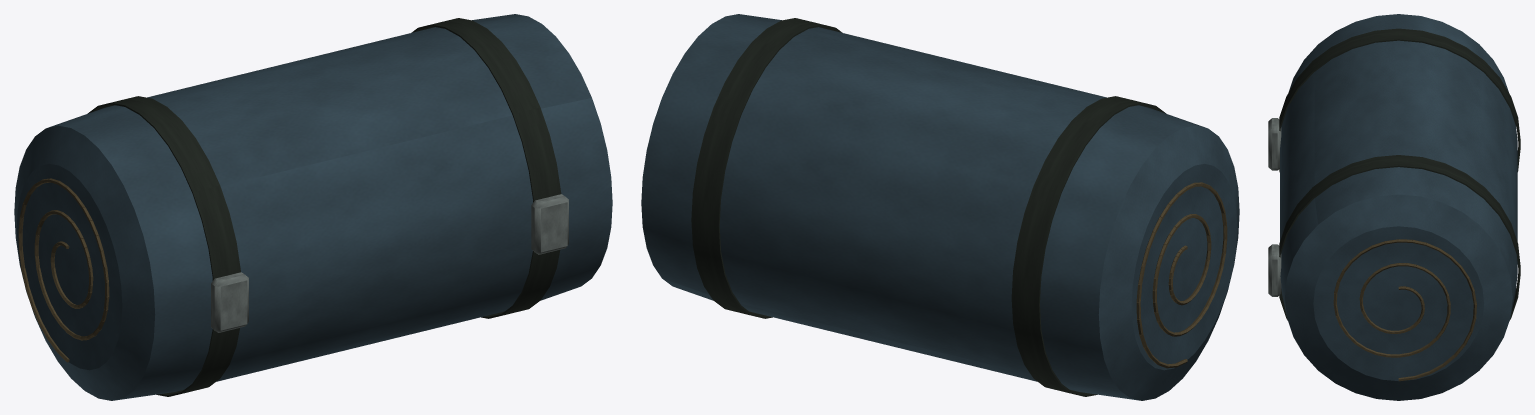
The model's file is level_camp_bedroll_rolled_refined.glb.
The picture shows the model from 3 angles, left to right: view 1: azimuth 30°, elevation 25°; view 2: azimuth 150°, elevation 25°; view 3: azimuth 270°, elevation 25°; orthographic projection. The views are drawn at different scales.
Parts seen in each view (by area): view 1: level_camp_bedroll_rolled_refined; view 2: level_camp_bedroll_rolled_refined; view 3: level_camp_bedroll_rolled_refined.
Part boxes in pixels (x1=…): level_camp_bedroll_rolled_refined: x1=14, y1=14, x2=612, y2=400; level_camp_bedroll_rolled_refined: x1=641, y1=14, x2=1239, y2=400; level_camp_bedroll_rolled_refined: x1=1268, y1=14, x2=1520, y2=400.
Bounding box in the file's own units: 0.649 × 0.342 × 0.354.
4 materials, 4 textured.
